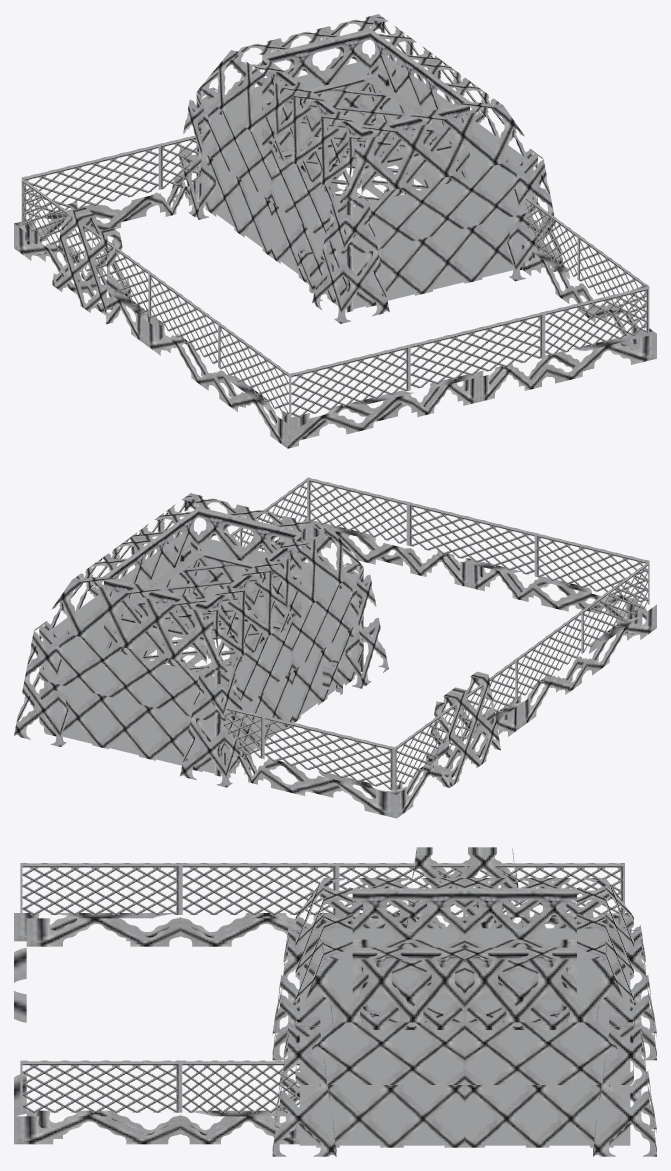
File: prison_hdtex.glb
The picture shows the model from 3 angles, top to bottom: view 1: azimuth 30°, elevation 25°; view 2: azimuth 150°, elevation 25°; view 3: azimuth 270°, elevation 25°; orthographic projection. The views are drawn at different scales.
Parts seen in each view (by area): view 1: Prison, chainlinks, LitWin_Prison, prisonwall2; view 2: Prison, chainlinks, LitWin_Prison, prisonwall2; view 3: Prison, LitWin_Prison, chainlinks, prisonwall2.
Boxes of the visible parts, left/top/right/bottom form: Prison: left=52, top=14, right=562, bottom=324; chainlinks: left=21, top=133, right=649, bottom=419; LitWin_Prison: left=201, top=55, right=532, bottom=309; prisonwall2: left=14, top=179, right=656, bottom=448; Prison: left=14, top=493, right=500, bottom=787; chainlinks: left=188, top=477, right=649, bottom=790; LitWin_Prison: left=44, top=532, right=358, bottom=773; prisonwall2: left=188, top=519, right=656, bottom=818; Prison: left=272, top=847, right=656, bottom=1156; LitWin_Prison: left=299, top=928, right=630, bottom=1145; chainlinks: left=20, top=863, right=624, bottom=1112; prisonwall2: left=14, top=913, right=631, bottom=1144.
Bounding box in the file's own units: 32.53 × 12.14 × 40.14.
1 material, 1 textured.
